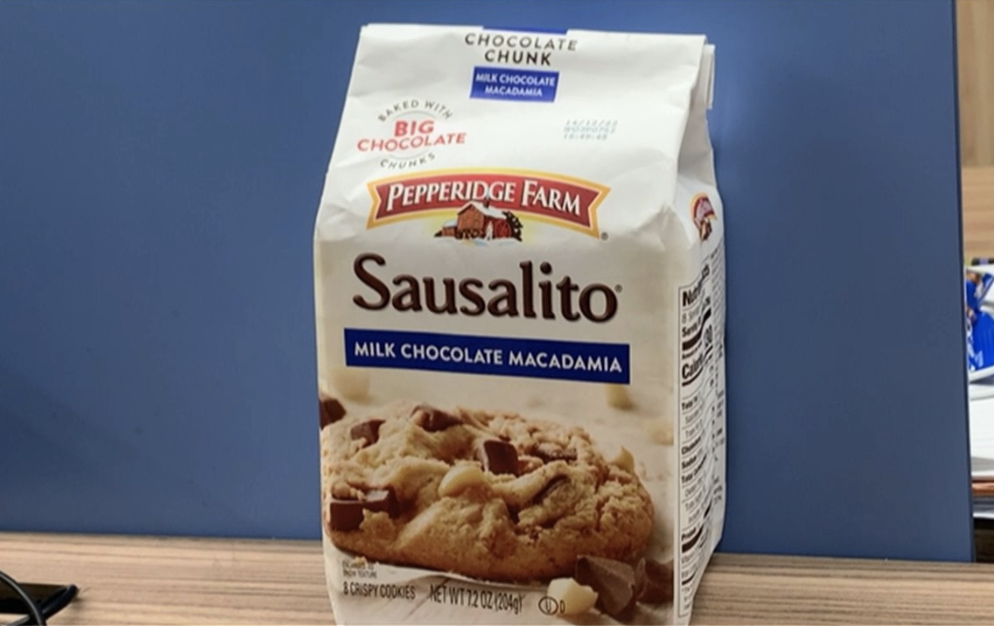cookies_150g: (351, 72, 652, 609)
